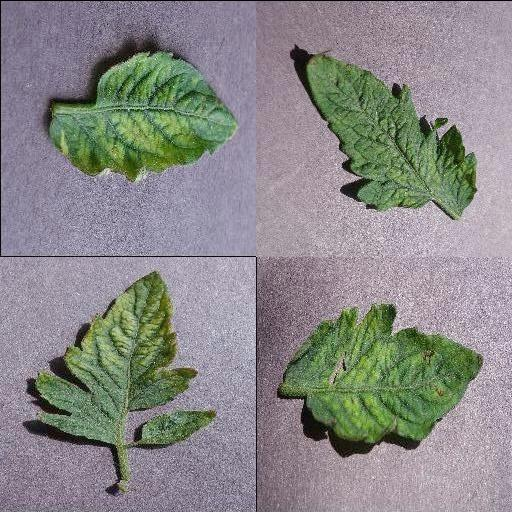Mosaic Virus: (37, 267, 201, 447), (282, 301, 486, 445), (306, 50, 478, 214), (46, 48, 240, 182)
